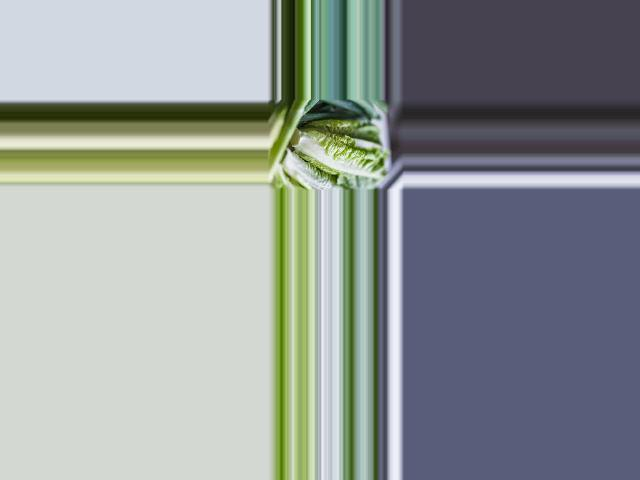lettuce: (290, 117, 388, 179)
